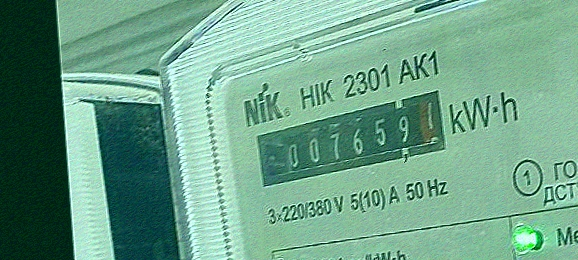0: (285, 139, 300, 168), (306, 136, 321, 163)
1: (422, 100, 436, 132)
5: (371, 116, 388, 149)
6: (349, 124, 365, 156)
7: (327, 128, 343, 161)
9: (395, 111, 412, 146)
screen: (239, 82, 466, 193)
